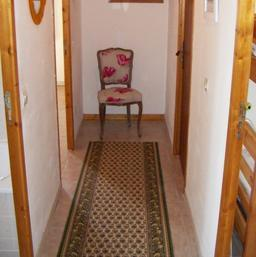Puerta: (219, 6, 253, 255), (173, 2, 192, 170)
